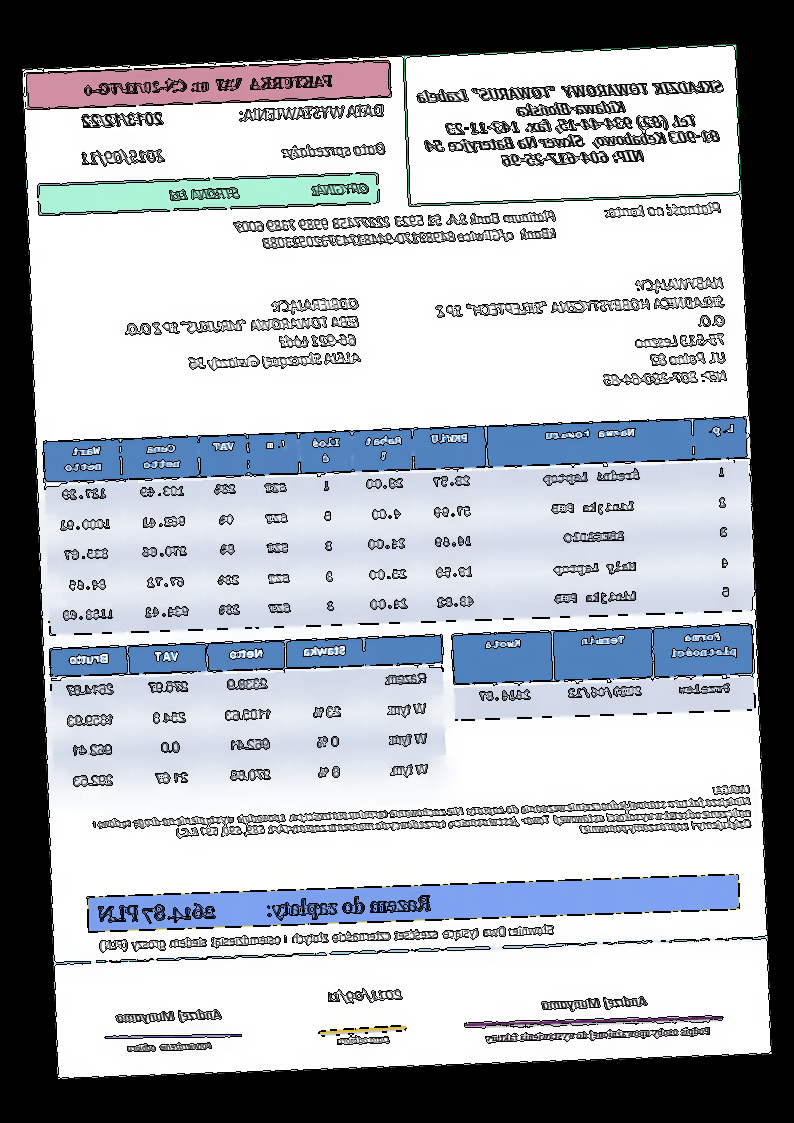Table: (42, 415, 755, 637), (47, 631, 450, 804), (450, 622, 757, 722)
TextBox: (87, 781, 754, 854), (431, 271, 730, 396), (412, 75, 729, 174), (122, 293, 363, 377), (98, 919, 557, 958), (232, 207, 560, 254), (95, 889, 434, 929), (83, 70, 337, 99), (167, 177, 372, 204), (484, 1024, 713, 1045), (240, 98, 388, 126), (280, 137, 388, 163), (603, 198, 724, 221), (536, 993, 652, 1014), (79, 144, 168, 170), (115, 1007, 224, 1027), (80, 108, 167, 132), (325, 984, 407, 1006), (126, 1038, 215, 1055), (334, 1031, 393, 1050)
